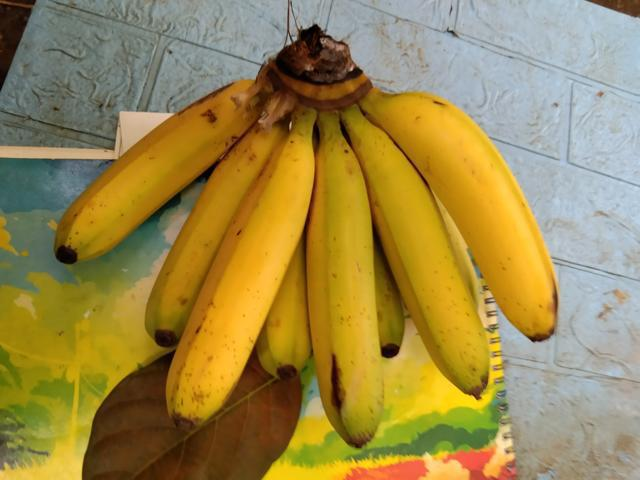freshripe: (396, 81, 567, 335), (162, 120, 301, 432), (359, 139, 496, 398)
ripe: (37, 70, 251, 273), (293, 148, 390, 446)
